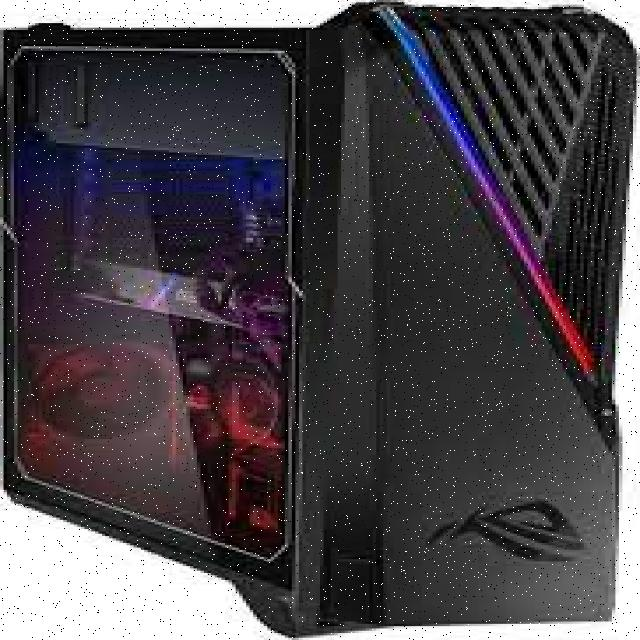Computer: (0, 12, 640, 640)
